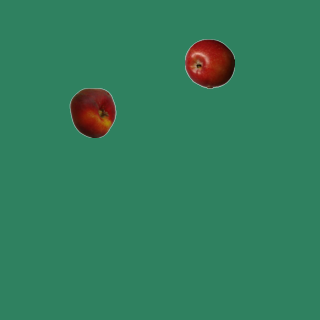Apple Braeburn: (184, 38, 234, 88)
Nectarine Flat: (67, 87, 117, 137)
